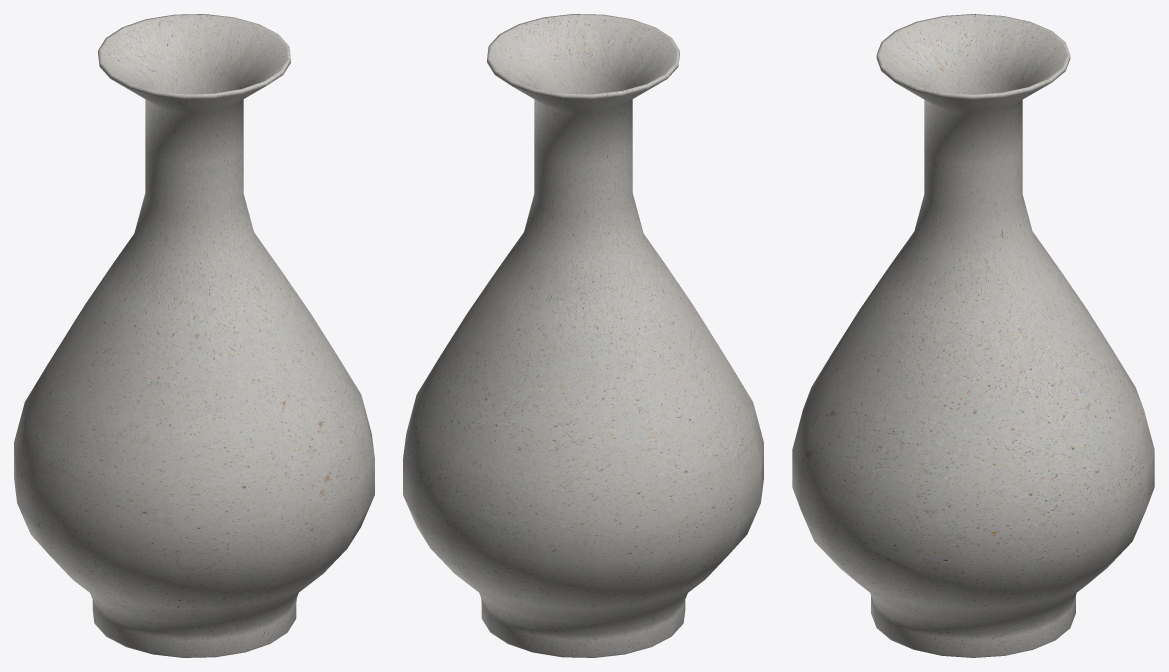
Rendered from taoci3.FBX.
3 renders of one model, left to right at view 1: azimuth 30°, elevation 25°; view 2: azimuth 150°, elevation 25°; view 3: azimuth 270°, elevation 25°, orthographic.
Parts seen in each view (by area): view 1: 对象003; view 2: 对象003; view 3: 对象003.
Part boxes in pixels (box(x1,y1,x2,y2)): 对象003: box(14, 14, 374, 657); 对象003: box(403, 14, 763, 657); 对象003: box(792, 14, 1154, 657).
Size of the model in its own units: 1.11 by 1.9 by 1.11.
